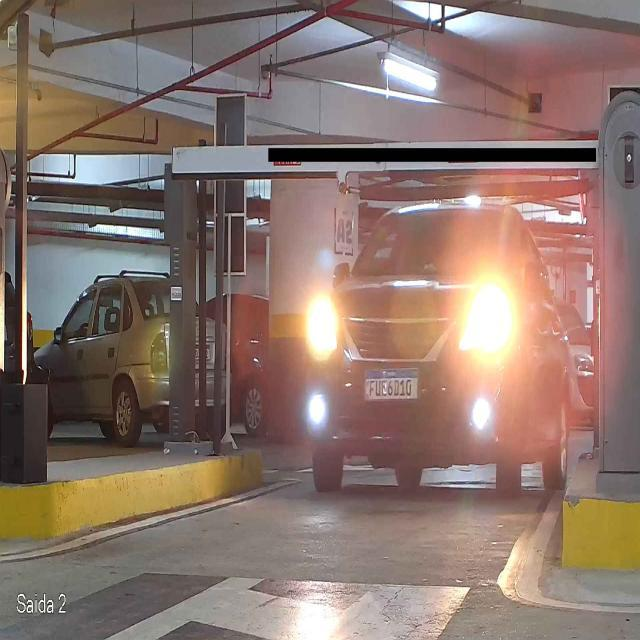mercosul_plate: (364, 370, 419, 400)
